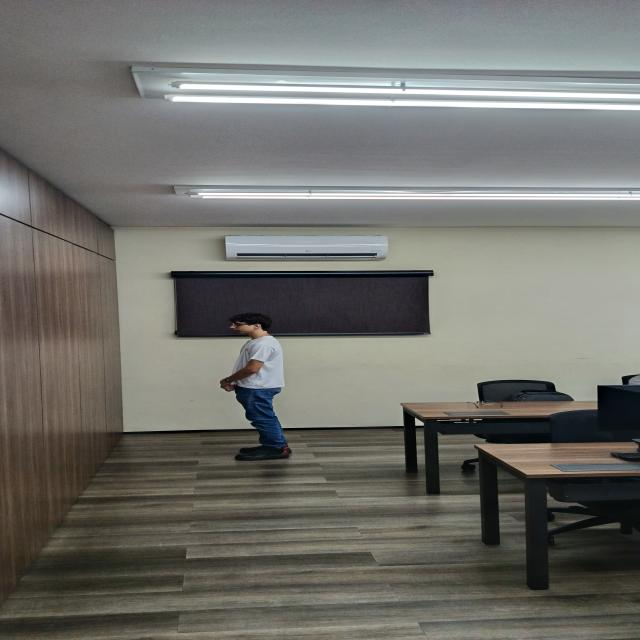oculos-epi: (233, 323, 247, 327)
